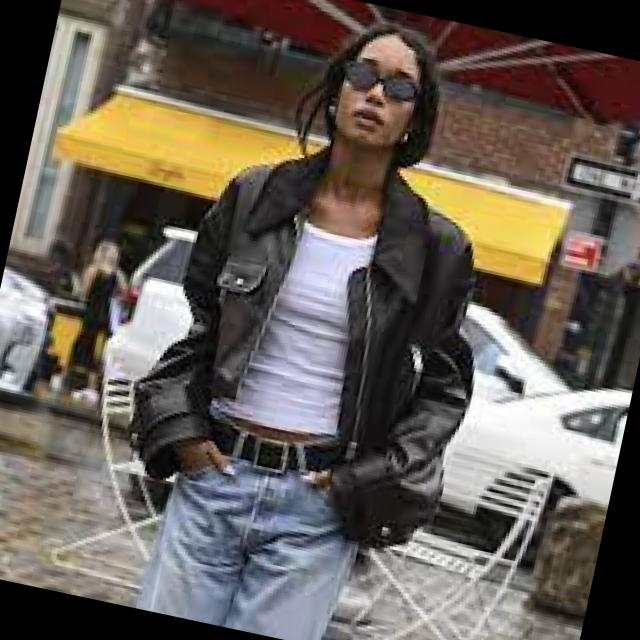Jacket: (104, 110, 530, 572)
